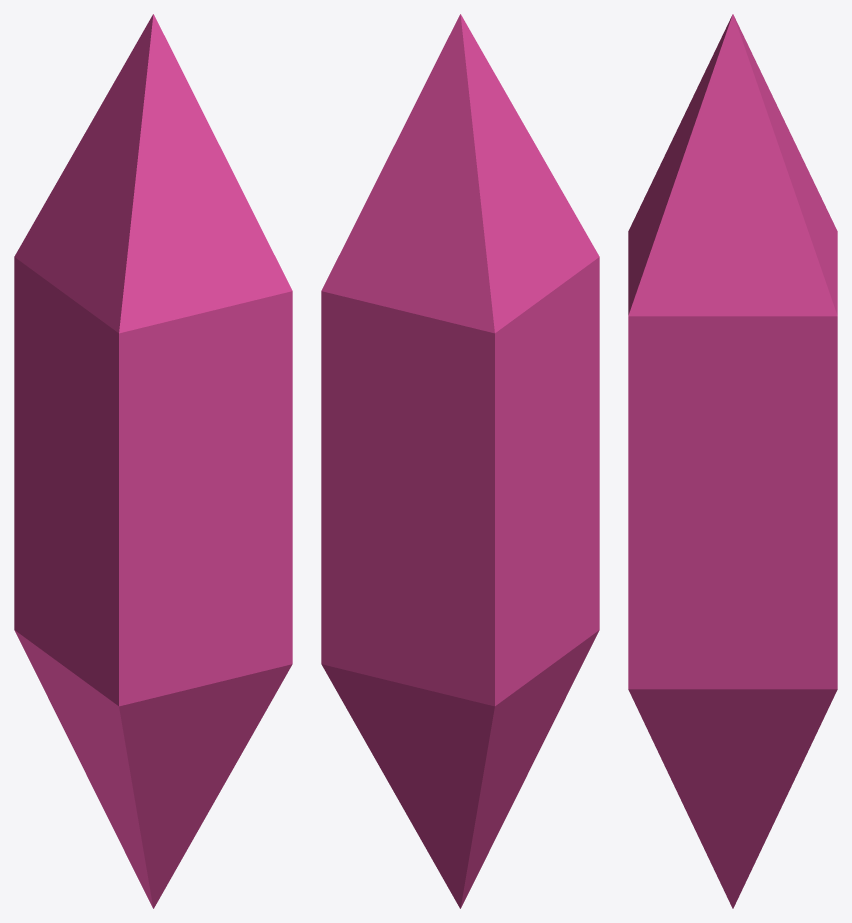
The model's file is muney.fbx.
3 renders of one model, left to right at view 1: azimuth 30°, elevation 25°; view 2: azimuth 150°, elevation 25°; view 3: azimuth 270°, elevation 25°, orthographic.
Visible parts, largest first — view 1: Cube; view 2: Cube; view 3: Cube.
Part boxes in pixels (bbox=[...]): Cube: bbox=[14, 14, 292, 908]; Cube: bbox=[321, 14, 599, 908]; Cube: bbox=[628, 14, 837, 908].
Size of the model in its own units: 90.6 by 446 by 94.63.
